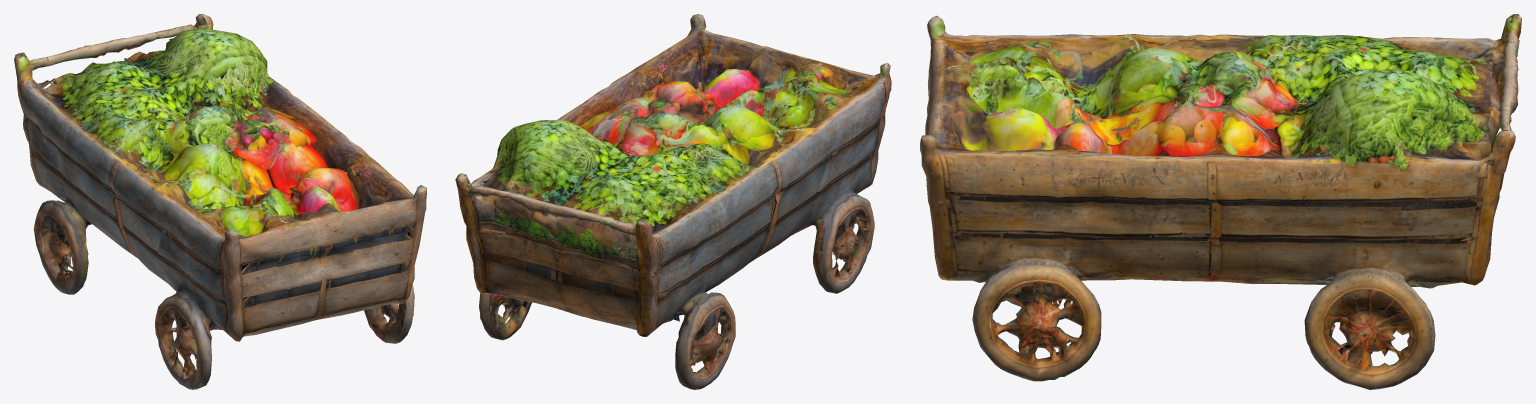
Rendered from Vagitable_cart_with_v_0722142308_refine.fbx.
The picture shows the model from 3 angles, left to right: view 1: azimuth 30°, elevation 25°; view 2: azimuth 150°, elevation 25°; view 3: azimuth 270°, elevation 25°; orthographic projection. The views are drawn at different scales.
Visible parts, largest first — view 1: Mesh_0; view 2: Mesh_0; view 3: Mesh_0.
Part boxes in pixels (x1=…): Mesh_0: x1=14, y1=14, x2=426, y2=389; Mesh_0: x1=455, y1=14, x2=891, y2=389; Mesh_0: x1=920, y1=14, x2=1521, y2=389.
Size of the model in its own units: 65.62 by 62.62 by 120.
Materials: 1 (1 with a texture image).
